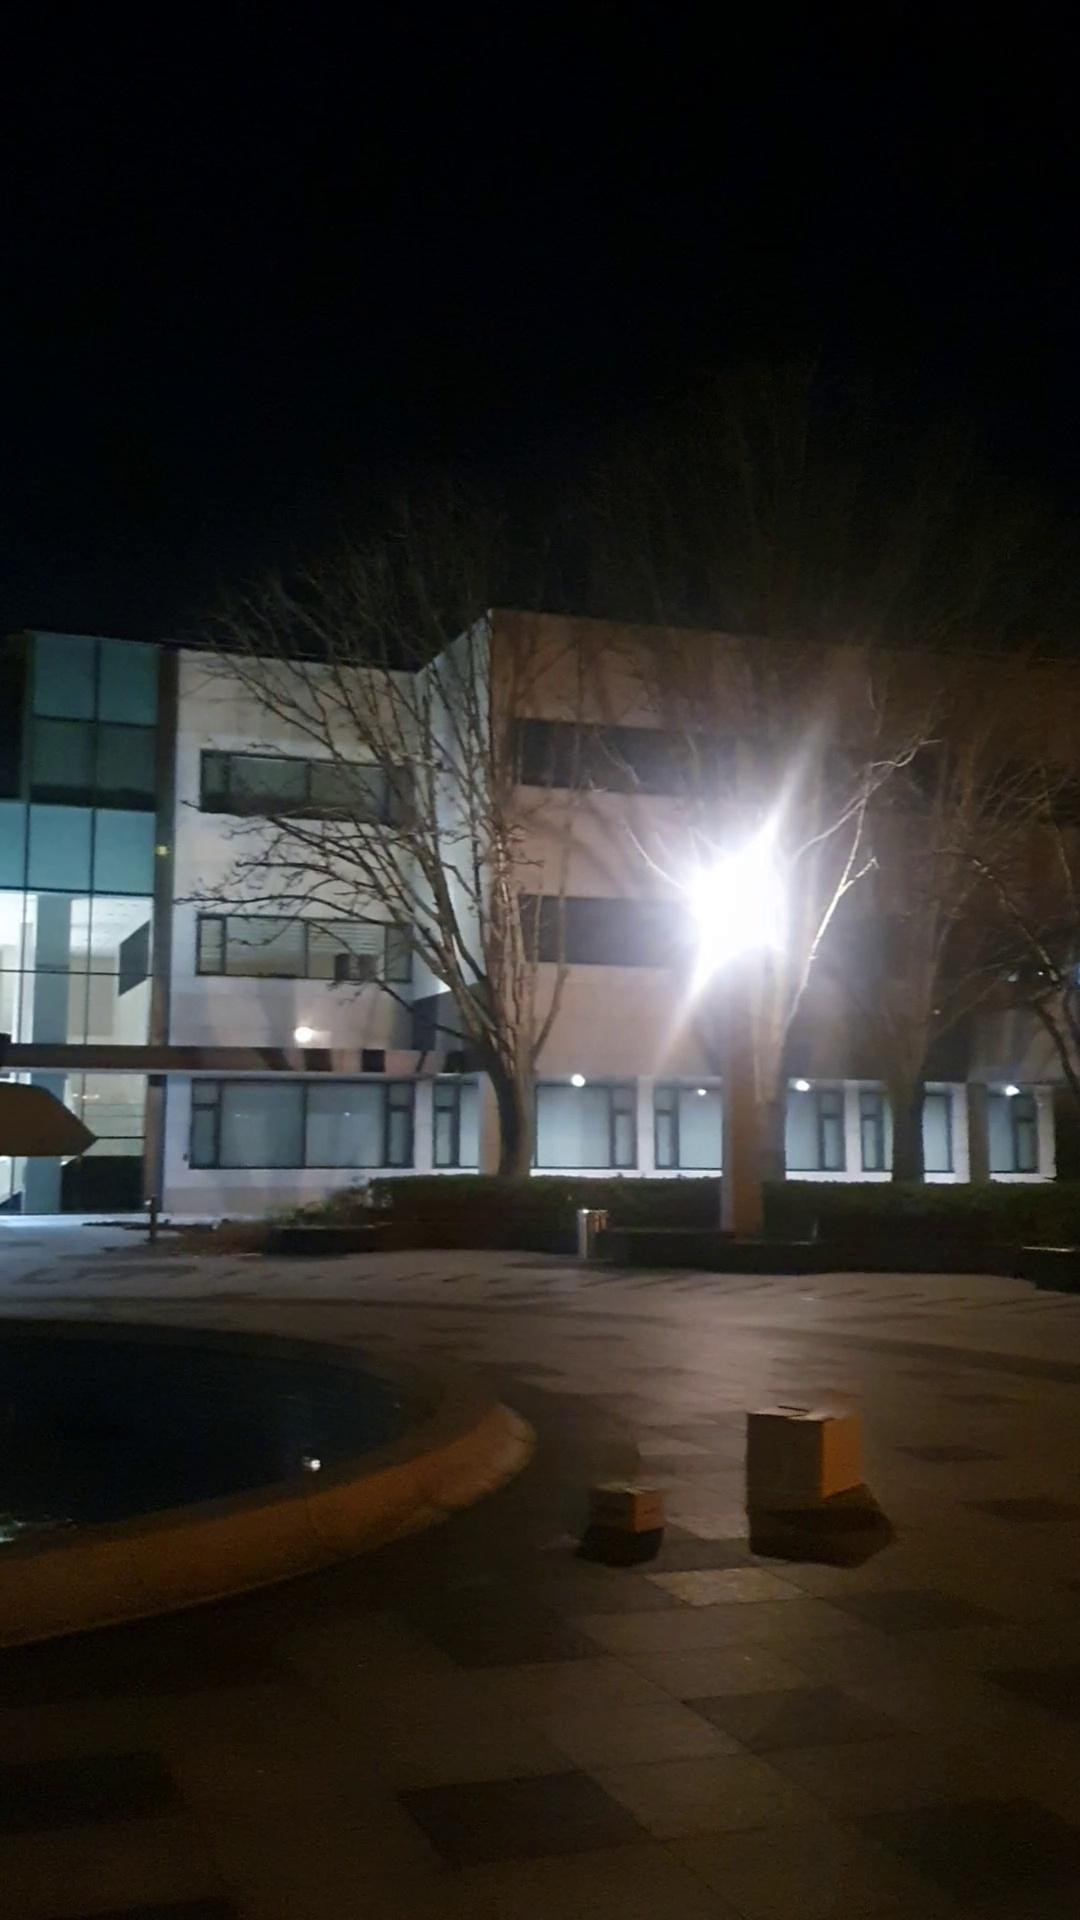Box: (733, 1389, 874, 1528), (578, 1468, 684, 1545)
